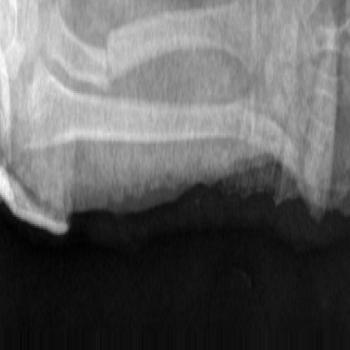Fracture: (100, 32, 116, 90)
